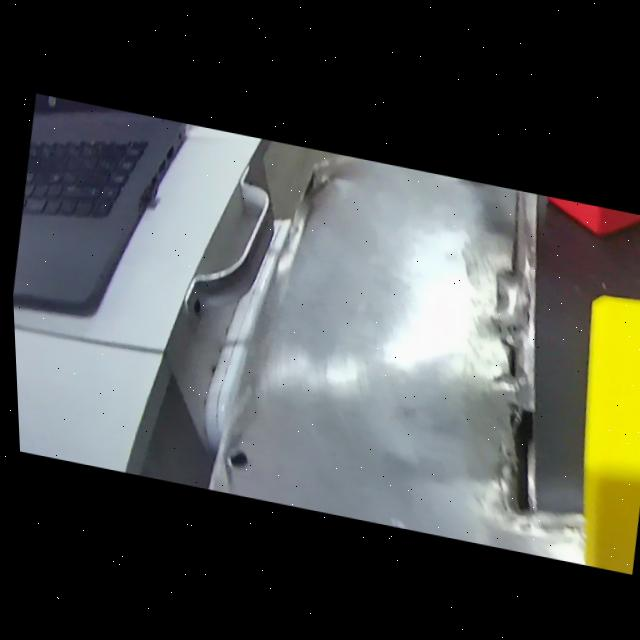redBox: (525, 188, 640, 246)
yellowBox: (538, 273, 640, 569)
